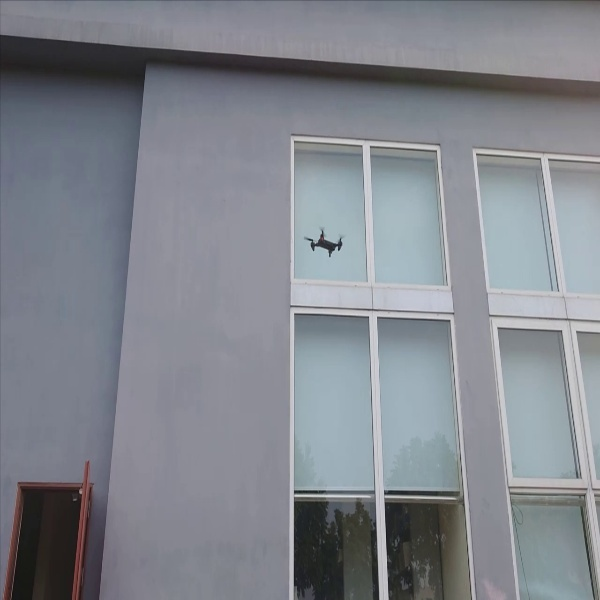drone: (302, 221, 348, 265)
